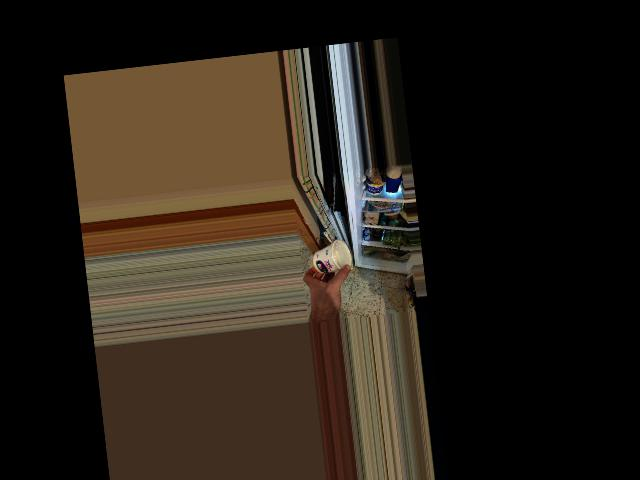cotage: (311, 238, 345, 278)
